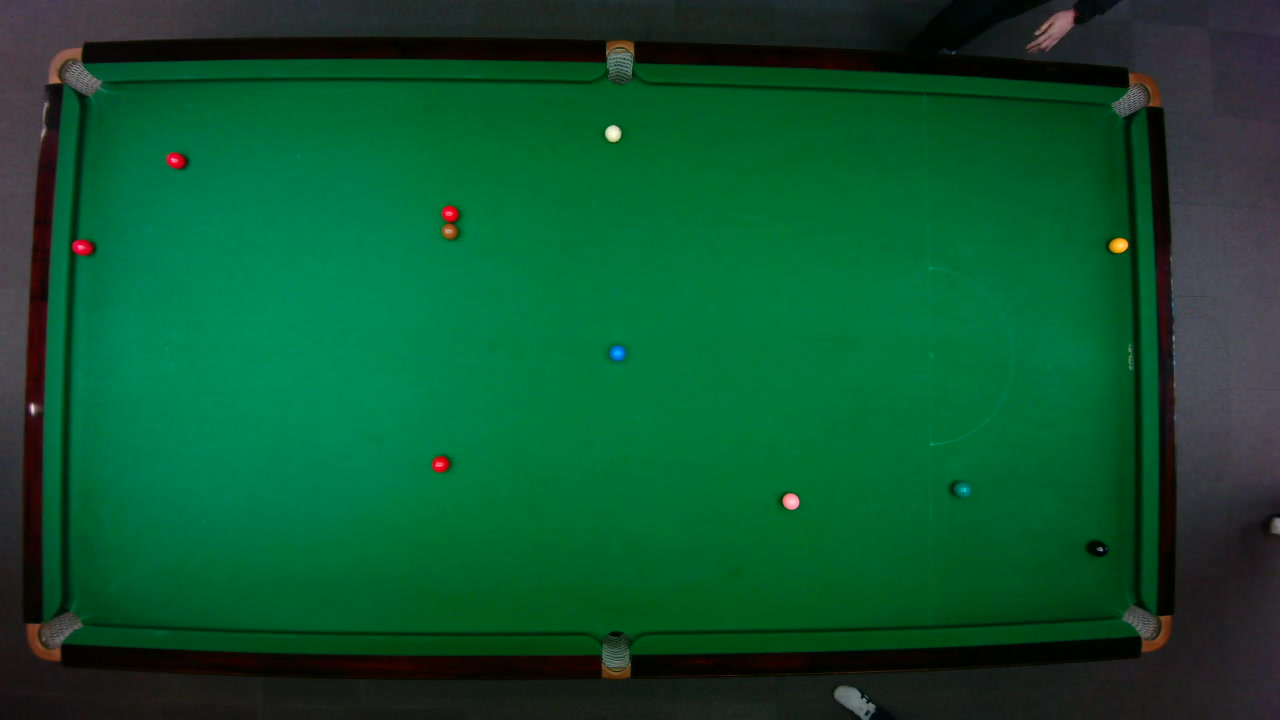bag: (24, 609, 83, 661), (45, 46, 102, 96), (1119, 603, 1172, 652), (1108, 71, 1161, 118), (600, 629, 630, 680), (605, 38, 633, 85)
black: (1087, 539, 1108, 557)
blue: (608, 343, 626, 361)
brown: (440, 223, 458, 240)
green: (951, 480, 972, 497)
pink: (780, 490, 800, 510)
red: (69, 237, 94, 255), (164, 150, 187, 169), (430, 454, 449, 473), (439, 204, 459, 222)
white: (602, 123, 622, 143)
yellow: (1107, 236, 1129, 253)
zone: (927, 266, 1013, 446)
